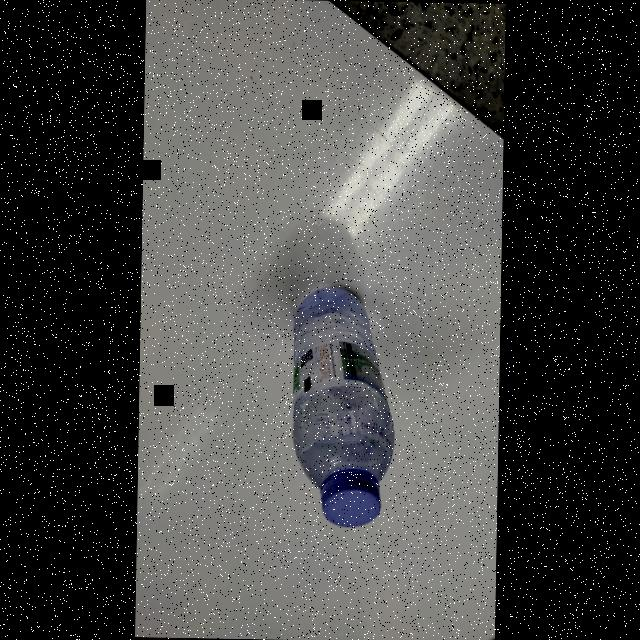plastic_bottle: (284, 277, 399, 534)
plastic_bottle_cap: (323, 474, 381, 527)
